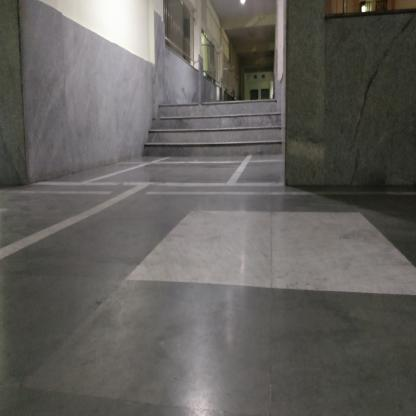stairs: (161, 100, 278, 159)
